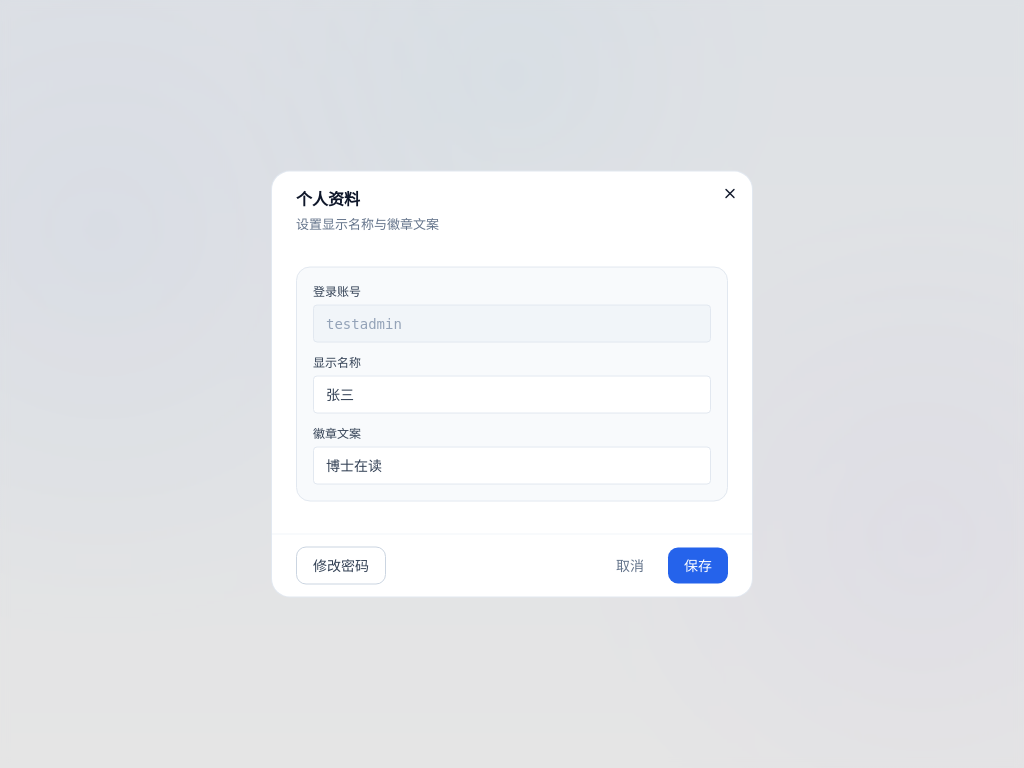
UserProfileDialog › opens change password dialog when clicking modify password button
The image size is (1024, 768).
Expected: the field showing "张三" is shown, [313,375,711,413]
What coordinates should you click on to do the following:
click the button "修改密码"
I would click on:
 (341, 566)
Its box is [296,546,386,584].
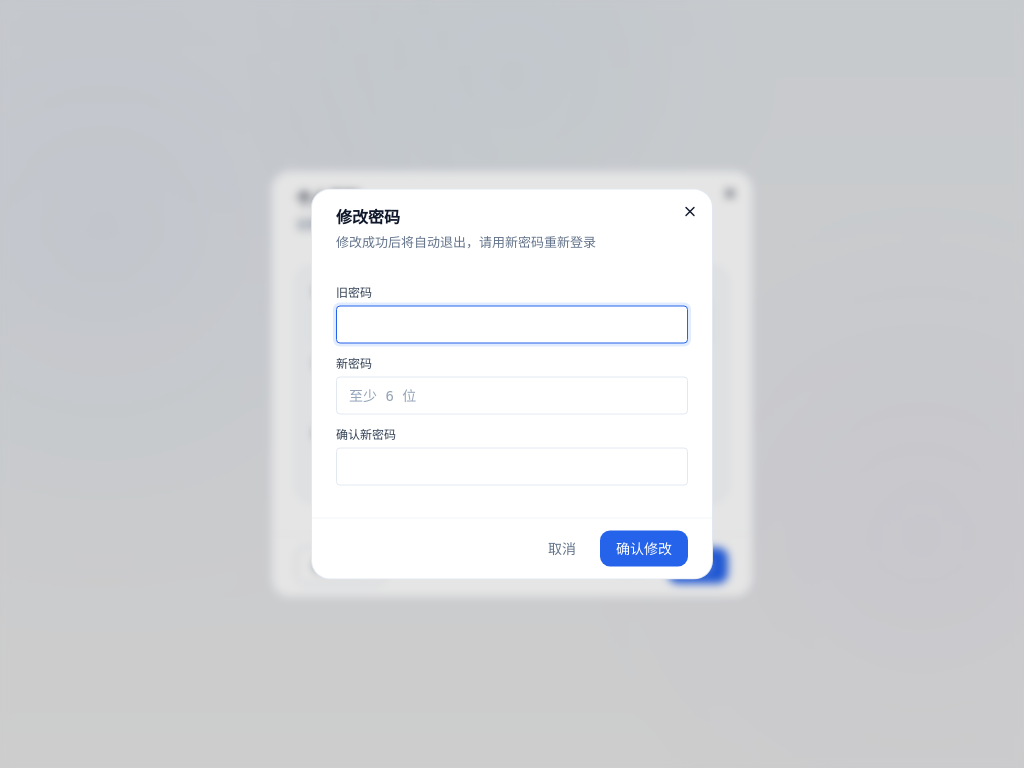
Expected: the heading "修改密码" is shown, [336,208,400,226]
